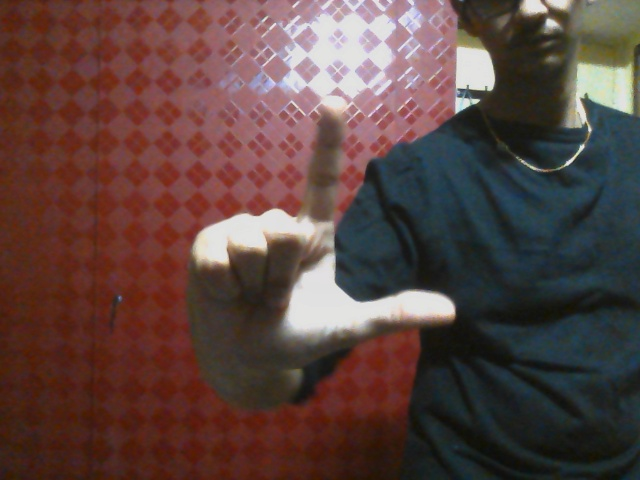L: (182, 95, 458, 378)
